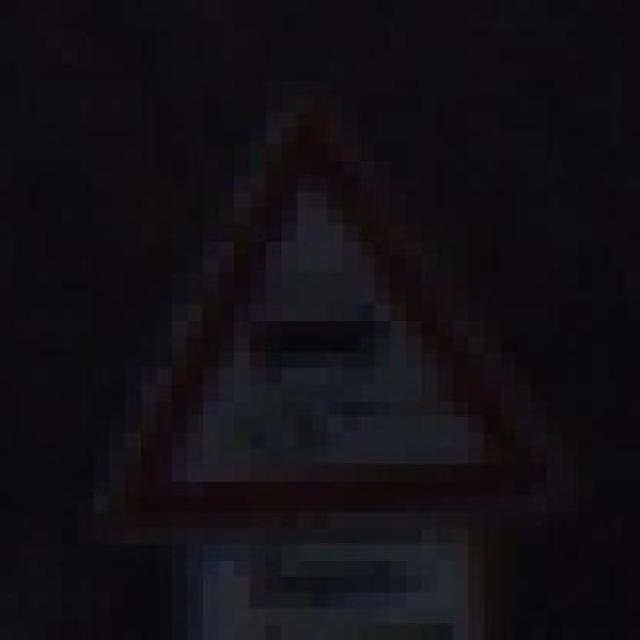Slippery Road Ahead: (62, 80, 578, 528)
